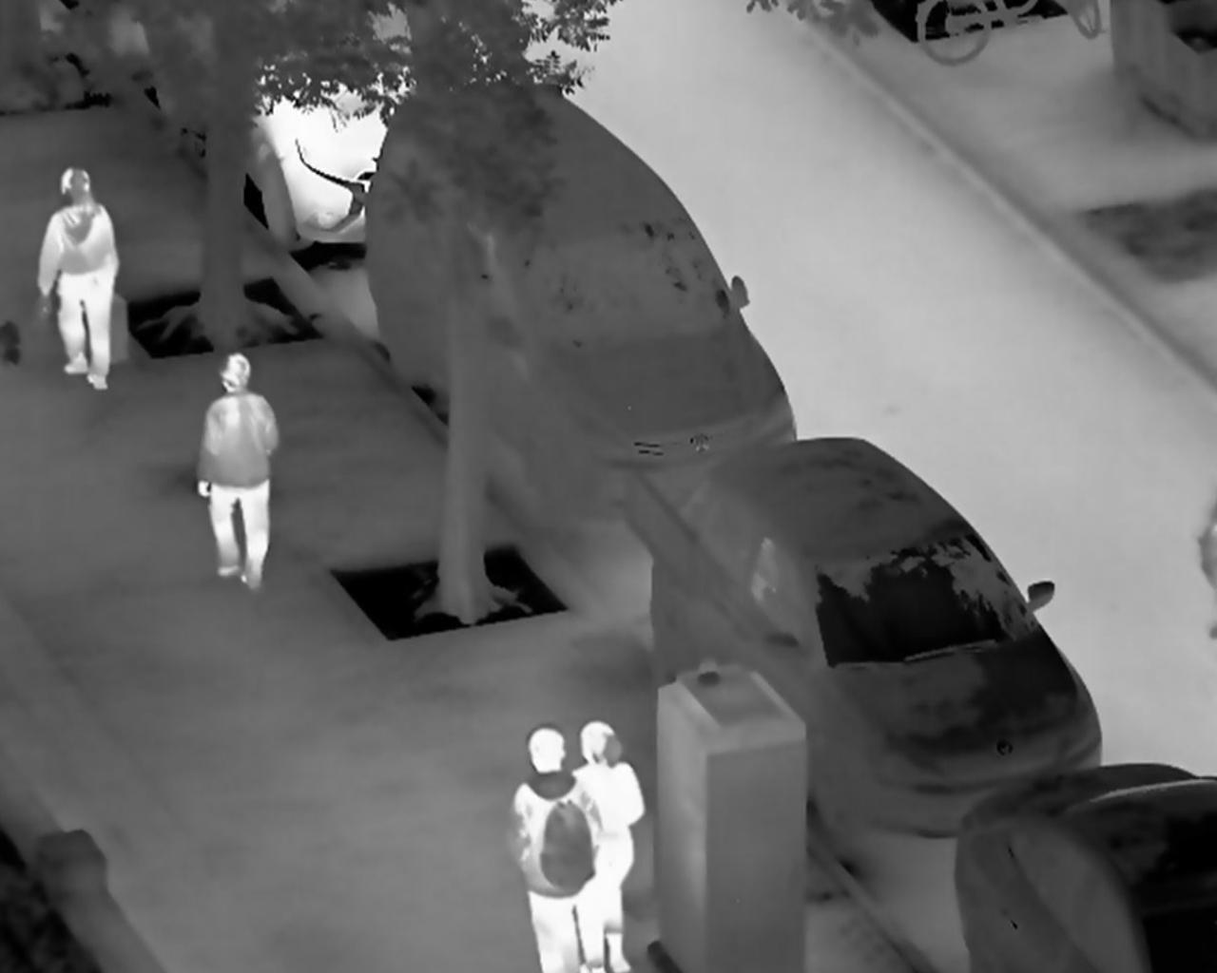person: (502, 726, 608, 973), (191, 351, 284, 596), (565, 718, 648, 973), (35, 163, 119, 394)
